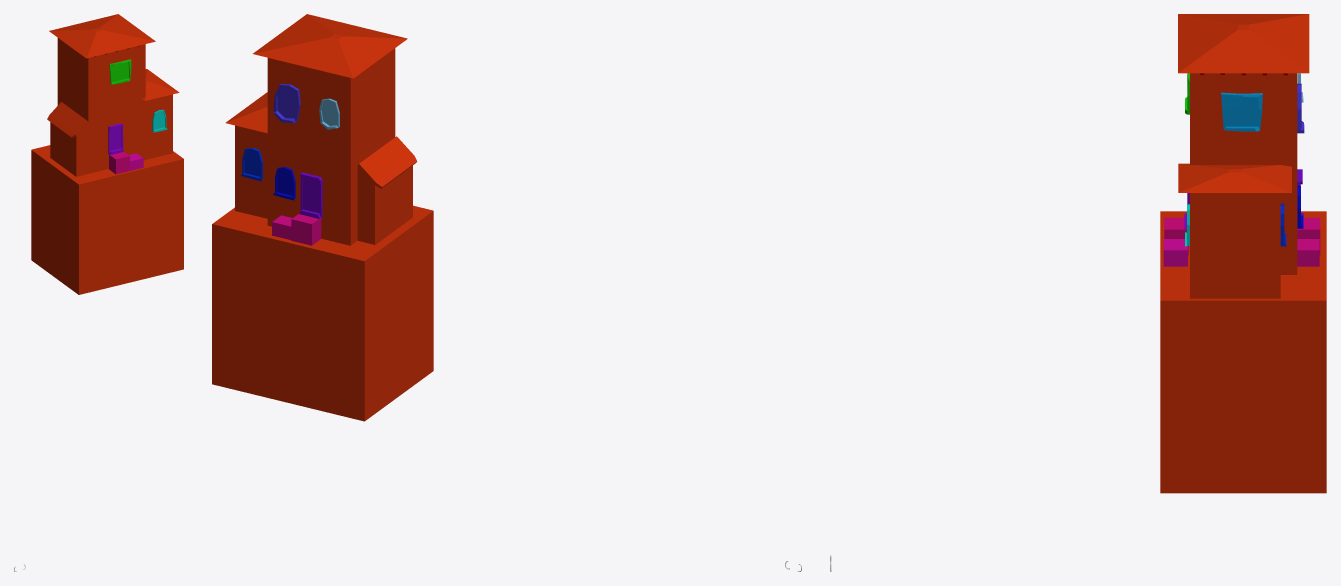
File: huis3.2.fbx
3 renders of one model, left to right at view 1: azimuth 30°, elevation 25°; view 2: azimuth 150°, elevation 25°; view 3: azimuth 270°, elevation 25°, orthographic. The views are drawn at different scales.
Visible parts, largest first — view 1: Cube.019, raam.010, Cube.017, Cube.022, raam.011; view 2: Cube.019, Cube.014, raam.006, Cube.012; view 3: Cube.019, raam.009, Cube.018, Cube.013.
Boxes of the visible parts, <box> form: Cube.019: <box>31,14,183,294</box>; raam.010: <box>109,59,131,84</box>; Cube.017: <box>108,123,123,154</box>; Cube.022: <box>109,152,129,174</box>; raam.011: <box>152,109,167,132</box>; Cube.019: <box>212,14,433,421</box>; Cube.014: <box>299,172,322,218</box>; raam.006: <box>273,83,300,122</box>; Cube.012: <box>291,213,321,245</box>; Cube.019: <box>1160,14,1326,493</box>; raam.009: <box>1221,92,1262,131</box>; Cube.018: <box>1163,238,1187,266</box>; Cube.013: <box>1297,239,1319,266</box>.
Bounding box in the file's own units: 2973 × 4352 × 2760.
